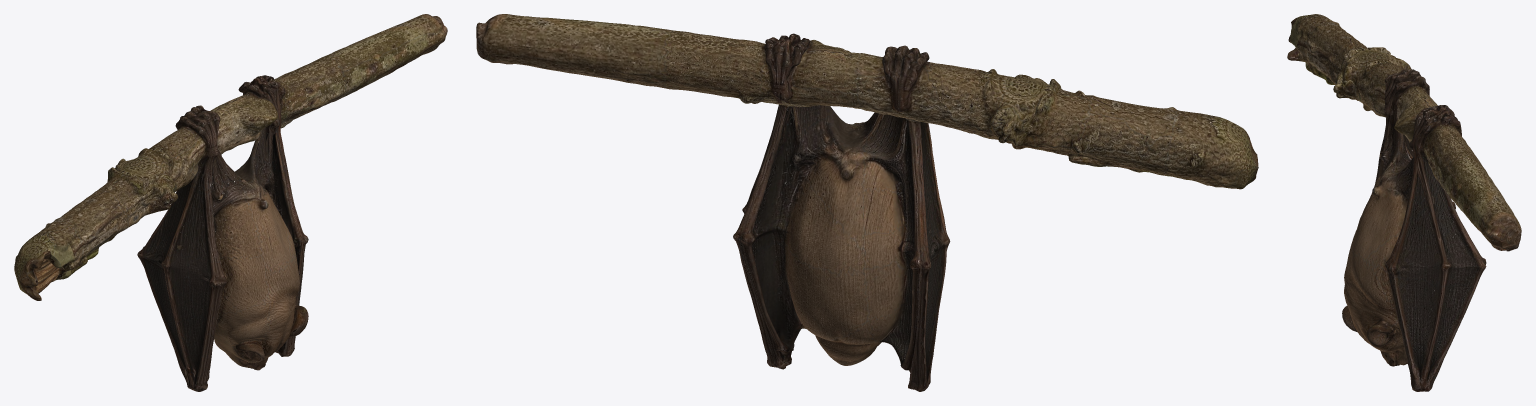
Rendered from muricelago.fbx.
3 renders of one model, left to right at view 1: azimuth 30°, elevation 25°; view 2: azimuth 150°, elevation 25°; view 3: azimuth 270°, elevation 25°, orthographic. The views are drawn at different scales.
Parts seen in each view (by area): view 1: tripo_node_dc12a5a6; view 2: tripo_node_dc12a5a6; view 3: tripo_node_dc12a5a6.
Boxes of the visible parts, <box> form: tripo_node_dc12a5a6: <box>14,14,447,391</box>; tripo_node_dc12a5a6: <box>476,14,1258,391</box>; tripo_node_dc12a5a6: <box>1287,14,1521,391</box>.
Size of the model in its own units: 98.02 by 49.19 by 37.53.
Materials: 1 (1 with a texture image).
